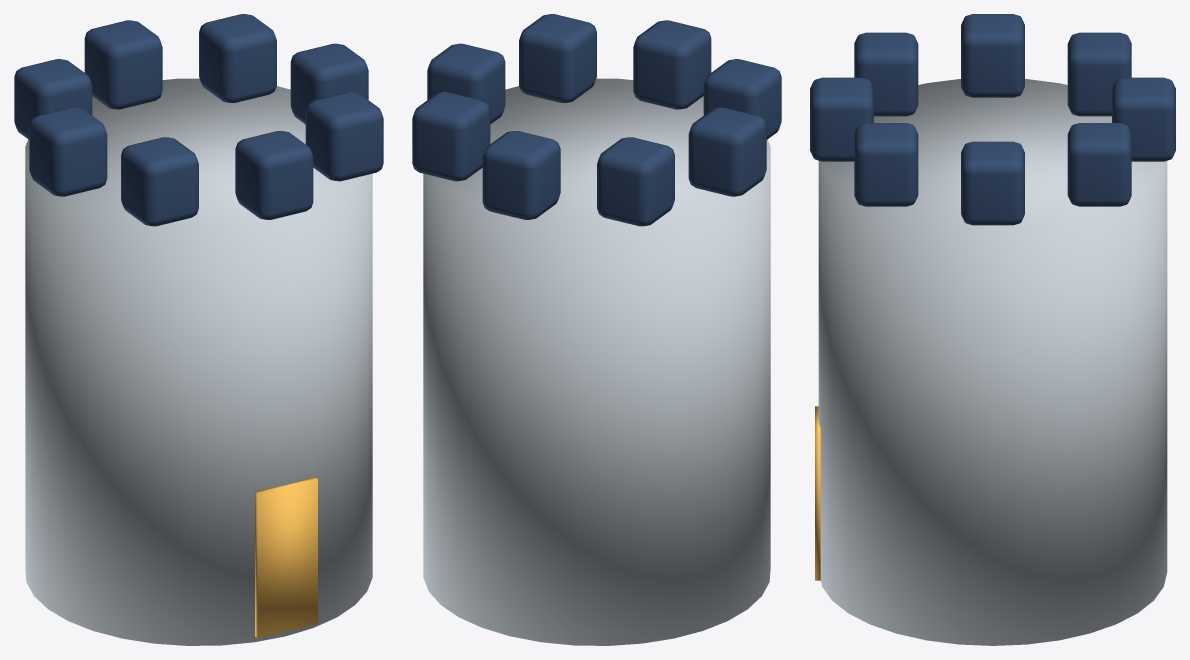
File: castle-tower-lite.glb
3 renders of one model, left to right at view 1: azimuth 30°, elevation 25°; view 2: azimuth 150°, elevation 25°; view 3: azimuth 270°, elevation 25°, orthographic.
Visible parts, largest first — view 1: Tower; view 2: Tower; view 3: Tower.
Boxes of the visible parts, box(x1,y1,x2,y2) form: Tower: box(14, 14, 383, 645); Tower: box(412, 14, 781, 645); Tower: box(810, 14, 1175, 645).
Size of the model in its own units: 1.26 by 1.85 by 1.26.
